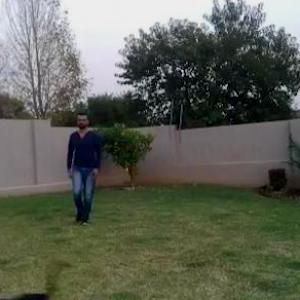follow: (66, 113, 102, 224)
